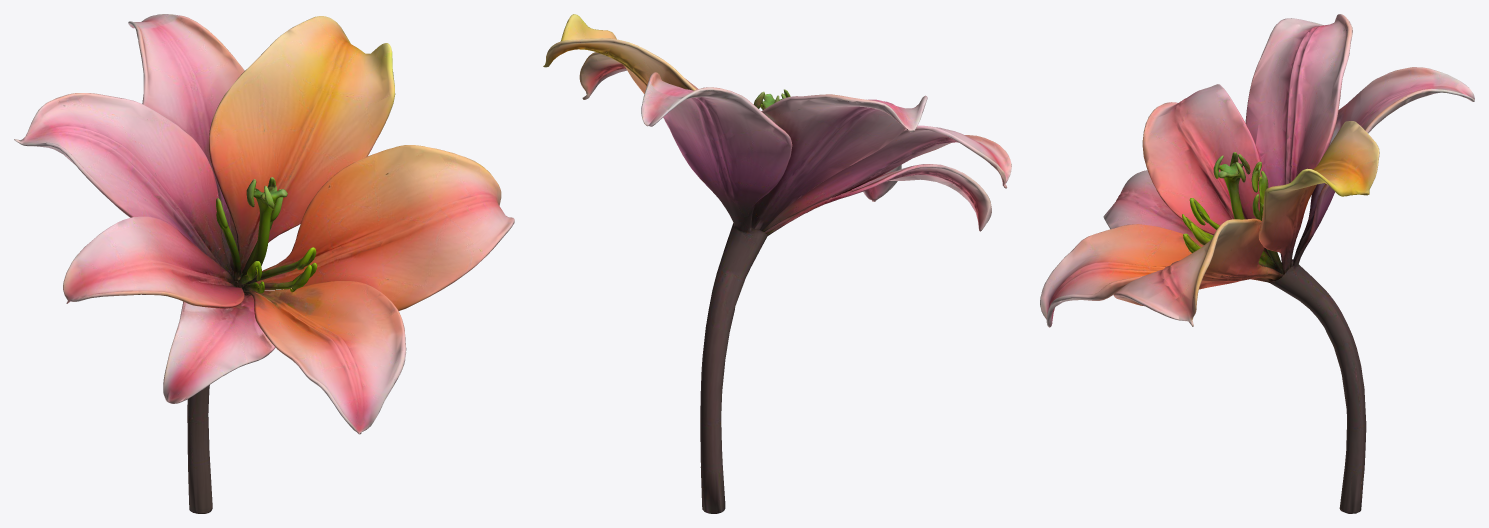
The model's file is pink_lily.glb.
3 renders of one model, left to right at view 1: azimuth 30°, elevation 25°; view 2: azimuth 150°, elevation 25°; view 3: azimuth 270°, elevation 25°, orthographic. The views are drawn at different scales.
Size of the model in its own units: 1.98 by 2 by 1.82.
Materials: 1 (1 with a texture image).
